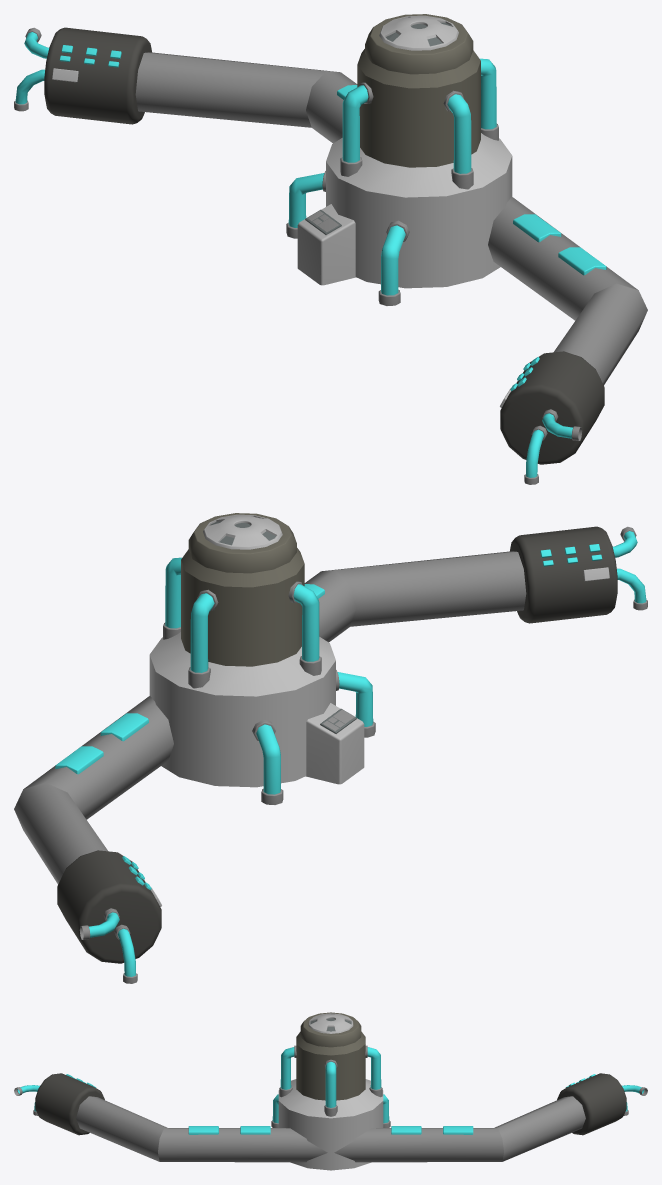
The model's file is Big_motor.fbx.
The picture shows the model from 3 angles, top to bottom: view 1: azimuth 30°, elevation 25°; view 2: azimuth 150°, elevation 25°; view 3: azimuth 270°, elevation 25°; orthographic projection. The views are drawn at different scales.
Visible parts, largest first — view 1: Base, Left, Right, pTorus; view 2: Base, Right, Left, pTorus; view 3: Base, Left, Right.
Part boxes in pixels (x1,y1,x2,y2): Base: (286,14,512,305); Left: (14,27,357,143); Right: (488,197,647,484); pTorus: (340,82,373,176); Base: (149,513,375,804); Right: (304,526,647,642); Left: (14,696,173,983); pTorus: (288,581,321,675); Base: (271,1012,390,1170); Left: (334,1073,647,1162); Right: (14,1073,327,1162).
Bounding box in the file's own units: 5.33 × 5.2 × 22.1.
